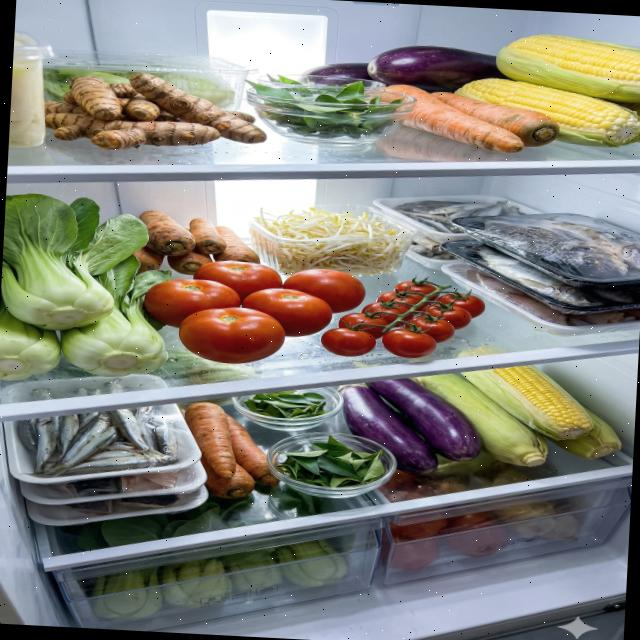bean_sprouts: (250, 204, 412, 282)
carrot: (378, 83, 564, 156), (180, 401, 286, 502), (132, 209, 264, 282)
corn: (406, 358, 626, 472), (452, 29, 640, 150)
curry_leaves: (240, 73, 408, 143), (273, 432, 387, 491), (242, 388, 330, 422)
eggplant: (332, 375, 486, 479), (300, 39, 518, 99)
fish: (15, 398, 183, 483), (481, 216, 640, 281), (475, 246, 636, 310), (393, 195, 528, 238)
pakchoy: (91, 492, 351, 632), (0, 192, 178, 390)
tomato: (140, 256, 368, 371), (320, 270, 487, 364)
turmeric: (42, 68, 270, 158)
